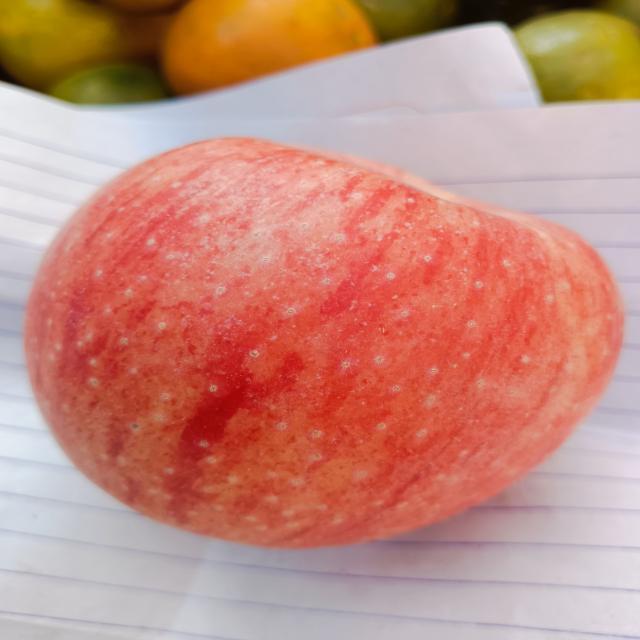Fresh Apple: (28, 144, 612, 554)
